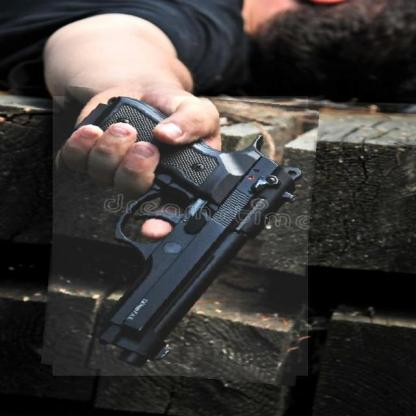handgun: (47, 91, 314, 381)
